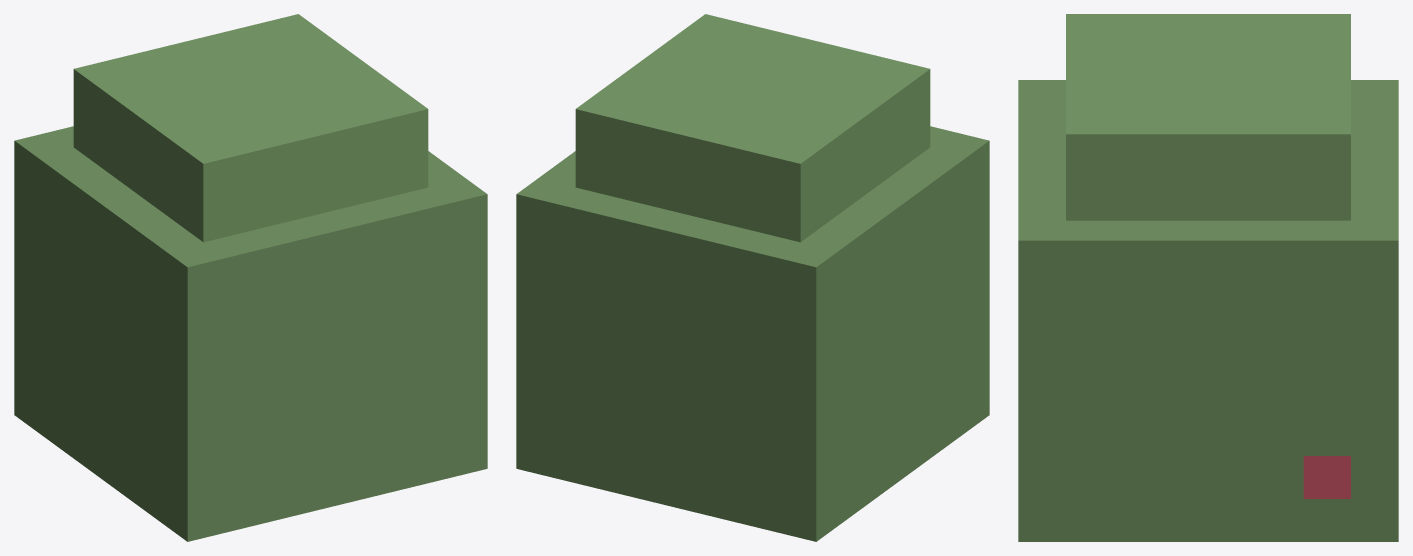
Rendered from fresa_silvestre_05.glb.
The picture shows the model from 3 angles, left to right: view 1: azimuth 30°, elevation 25°; view 2: azimuth 150°, elevation 25°; view 3: azimuth 270°, elevation 25°; orthographic projection. The views are drawn at different scales.
Visible parts, largest first — view 1: fresa_silvestre_05; view 2: fresa_silvestre_05; view 3: fresa_silvestre_05.
Part boxes in pixels (box(x1,y1,x2,y2)): fresa_silvestre_05: box(14, 14, 487, 541); fresa_silvestre_05: box(516, 14, 989, 541); fresa_silvestre_05: box(1018, 14, 1398, 541).
Bounding box in the file's own units: 0.8 × 0.9 × 0.8.
